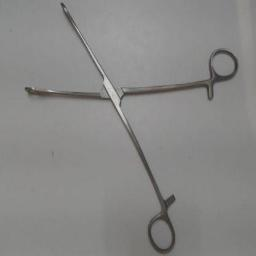Sponge Forceps: (18, 1, 242, 253)
